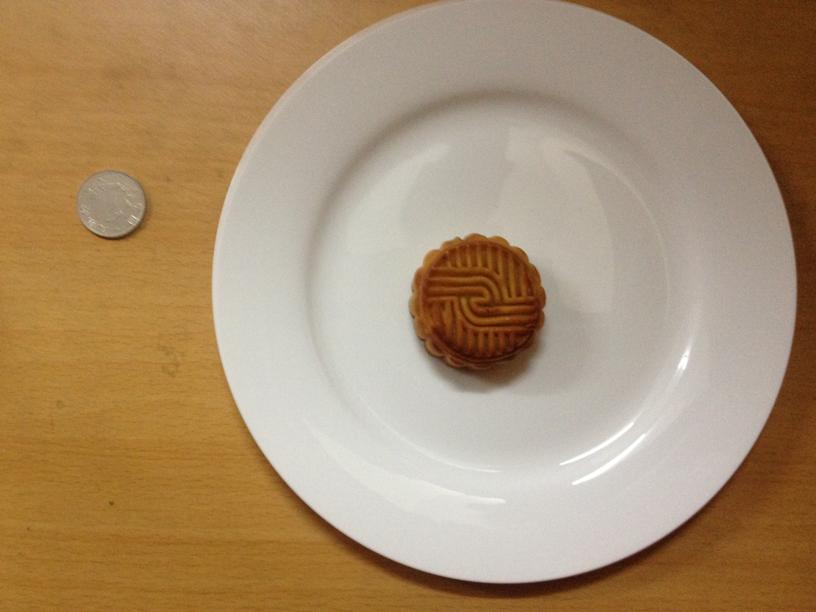coin: (75, 172, 147, 239)
mooncake: (409, 229, 545, 370)
